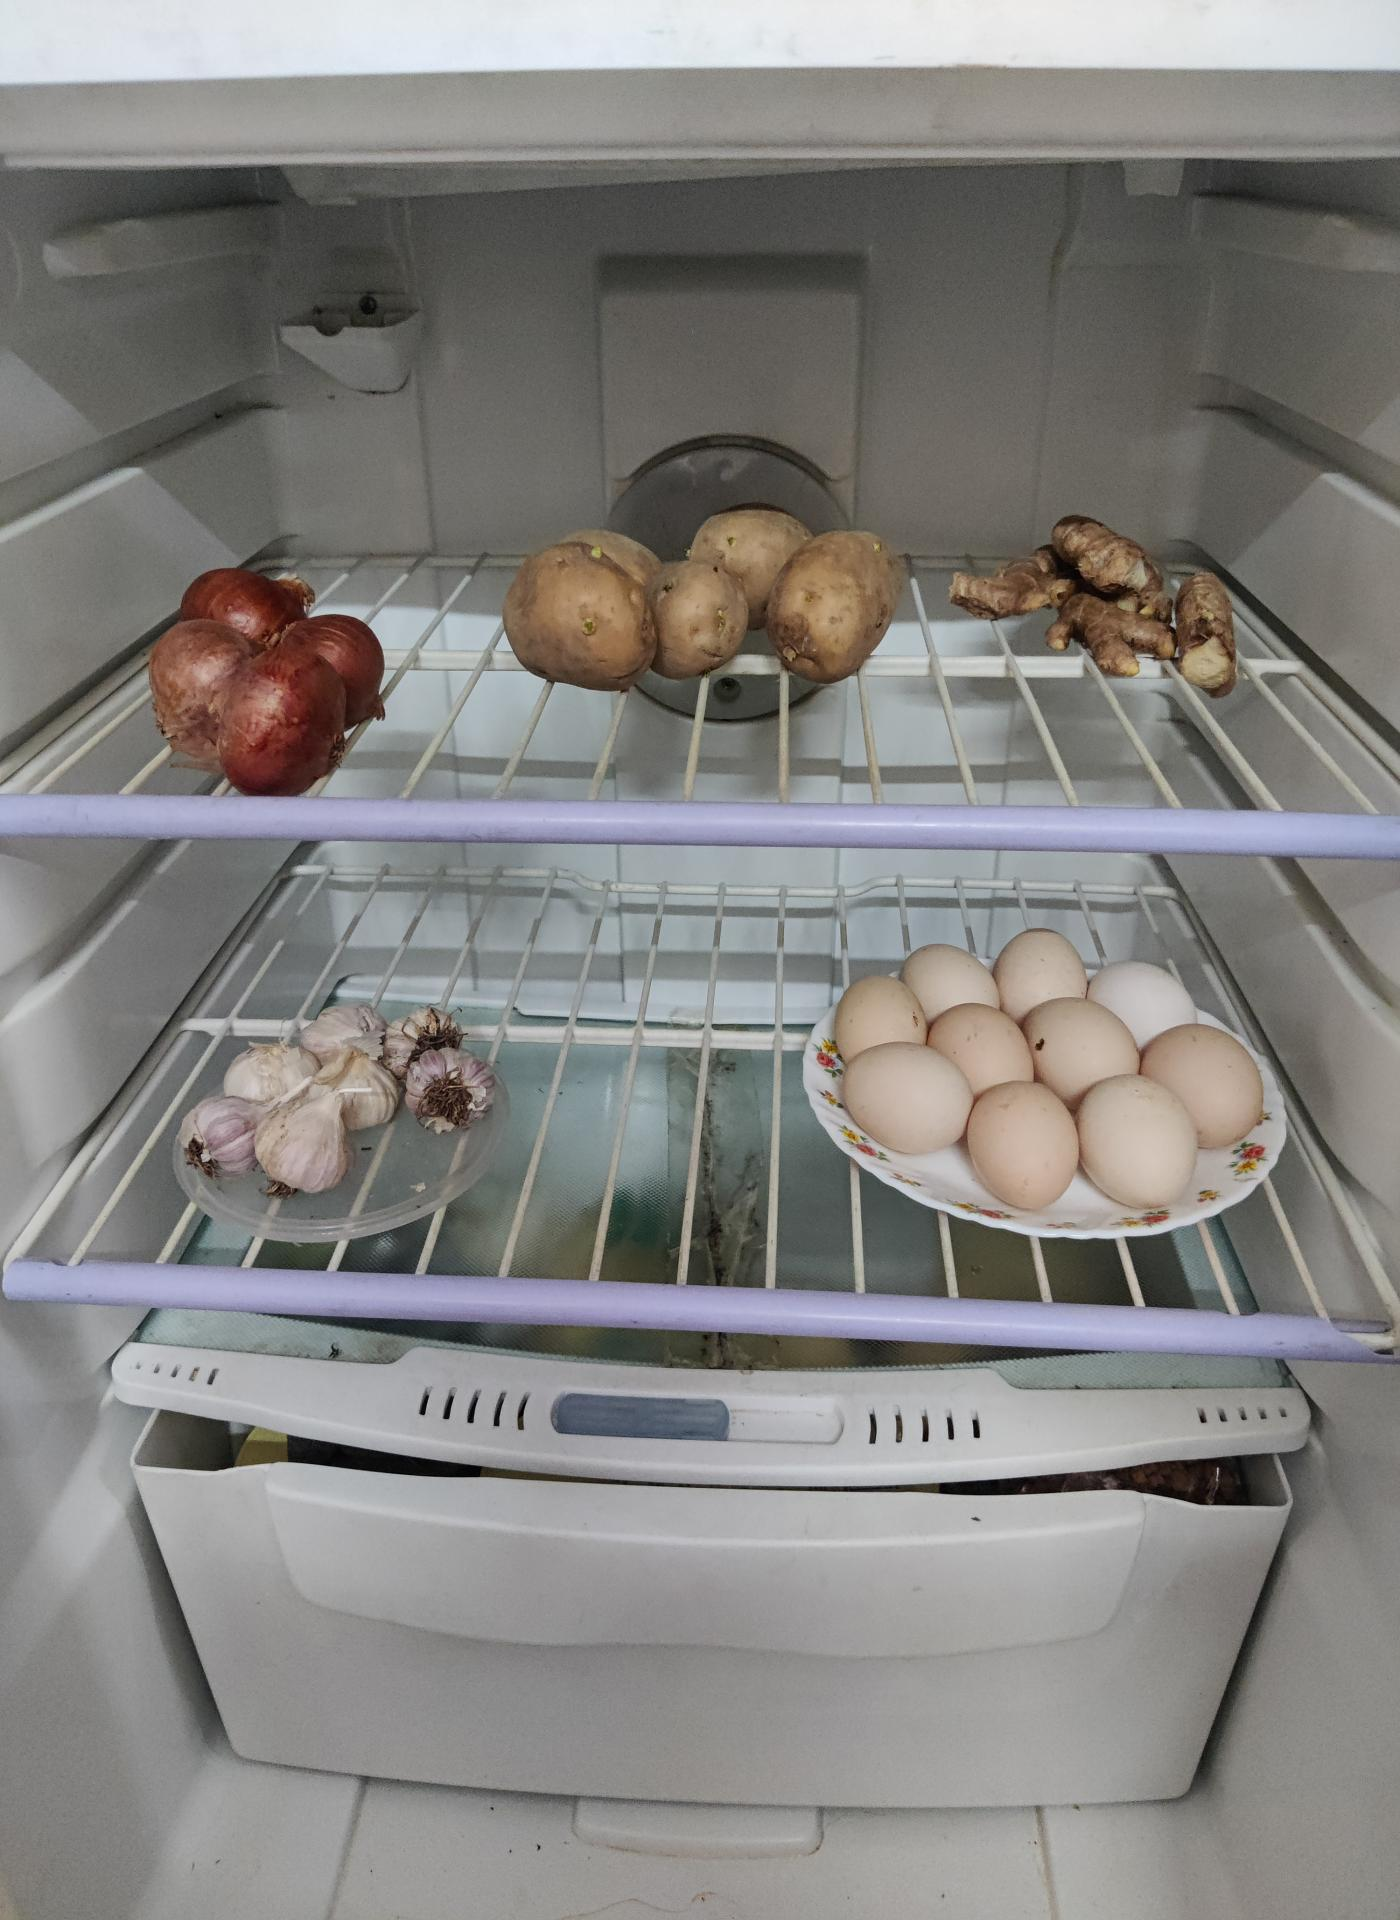egg: (816, 912, 1263, 1206)
garlic: (188, 1006, 400, 1194)
ginger: (948, 513, 1246, 674)
onion: (155, 558, 391, 792)
potato: (507, 510, 915, 687)
